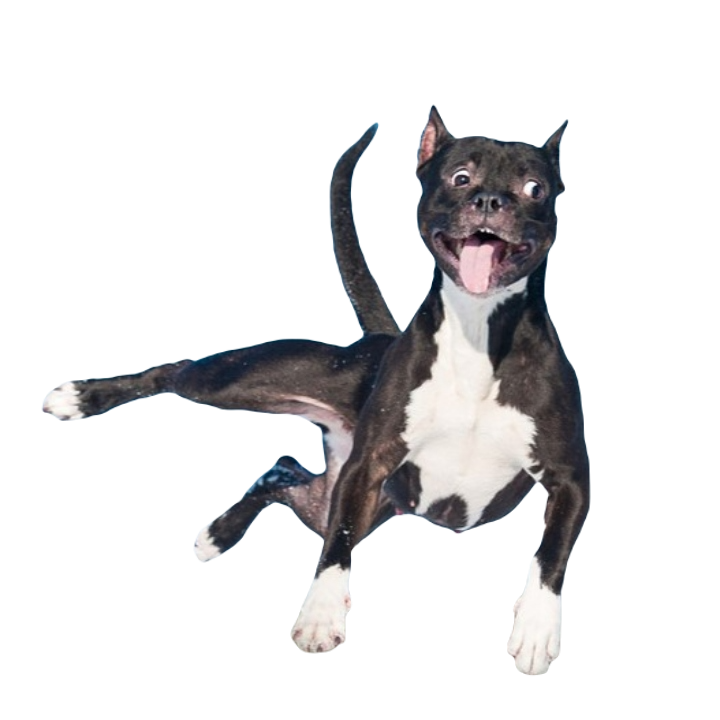Dog: (43, 102, 592, 676)
